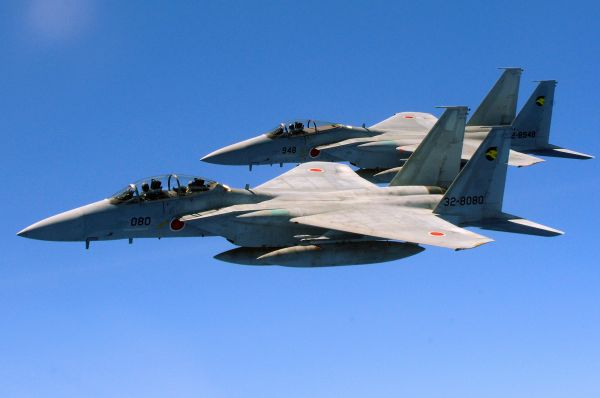airplane: (13, 103, 555, 260), (205, 67, 583, 173)
